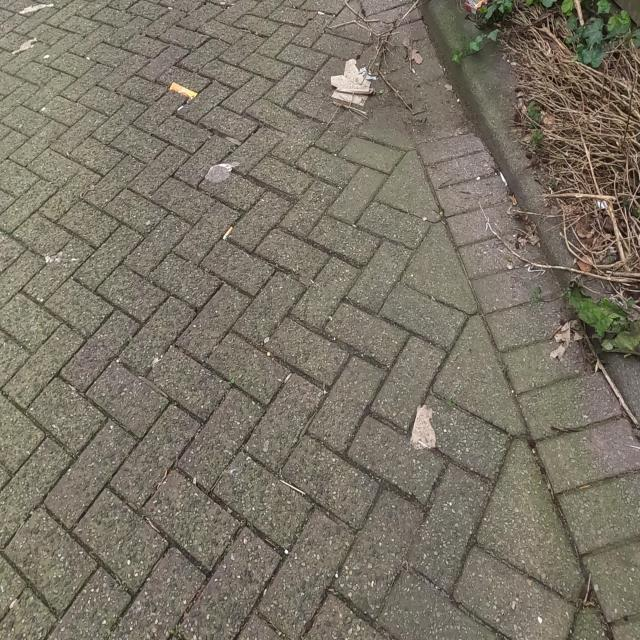Paper: (331, 59, 372, 108), (550, 318, 584, 361), (410, 402, 437, 452), (204, 160, 240, 184), (359, 66, 379, 81)
Plastic: (168, 81, 198, 100)
